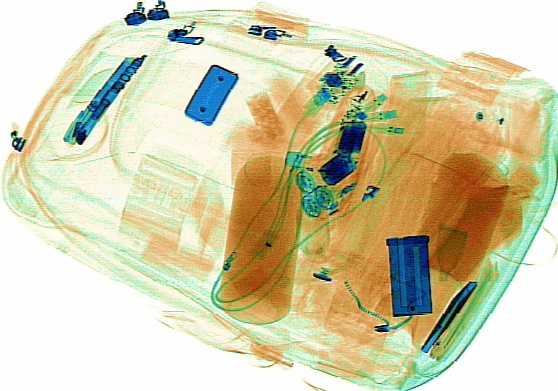lighter: (282, 148, 371, 177)
